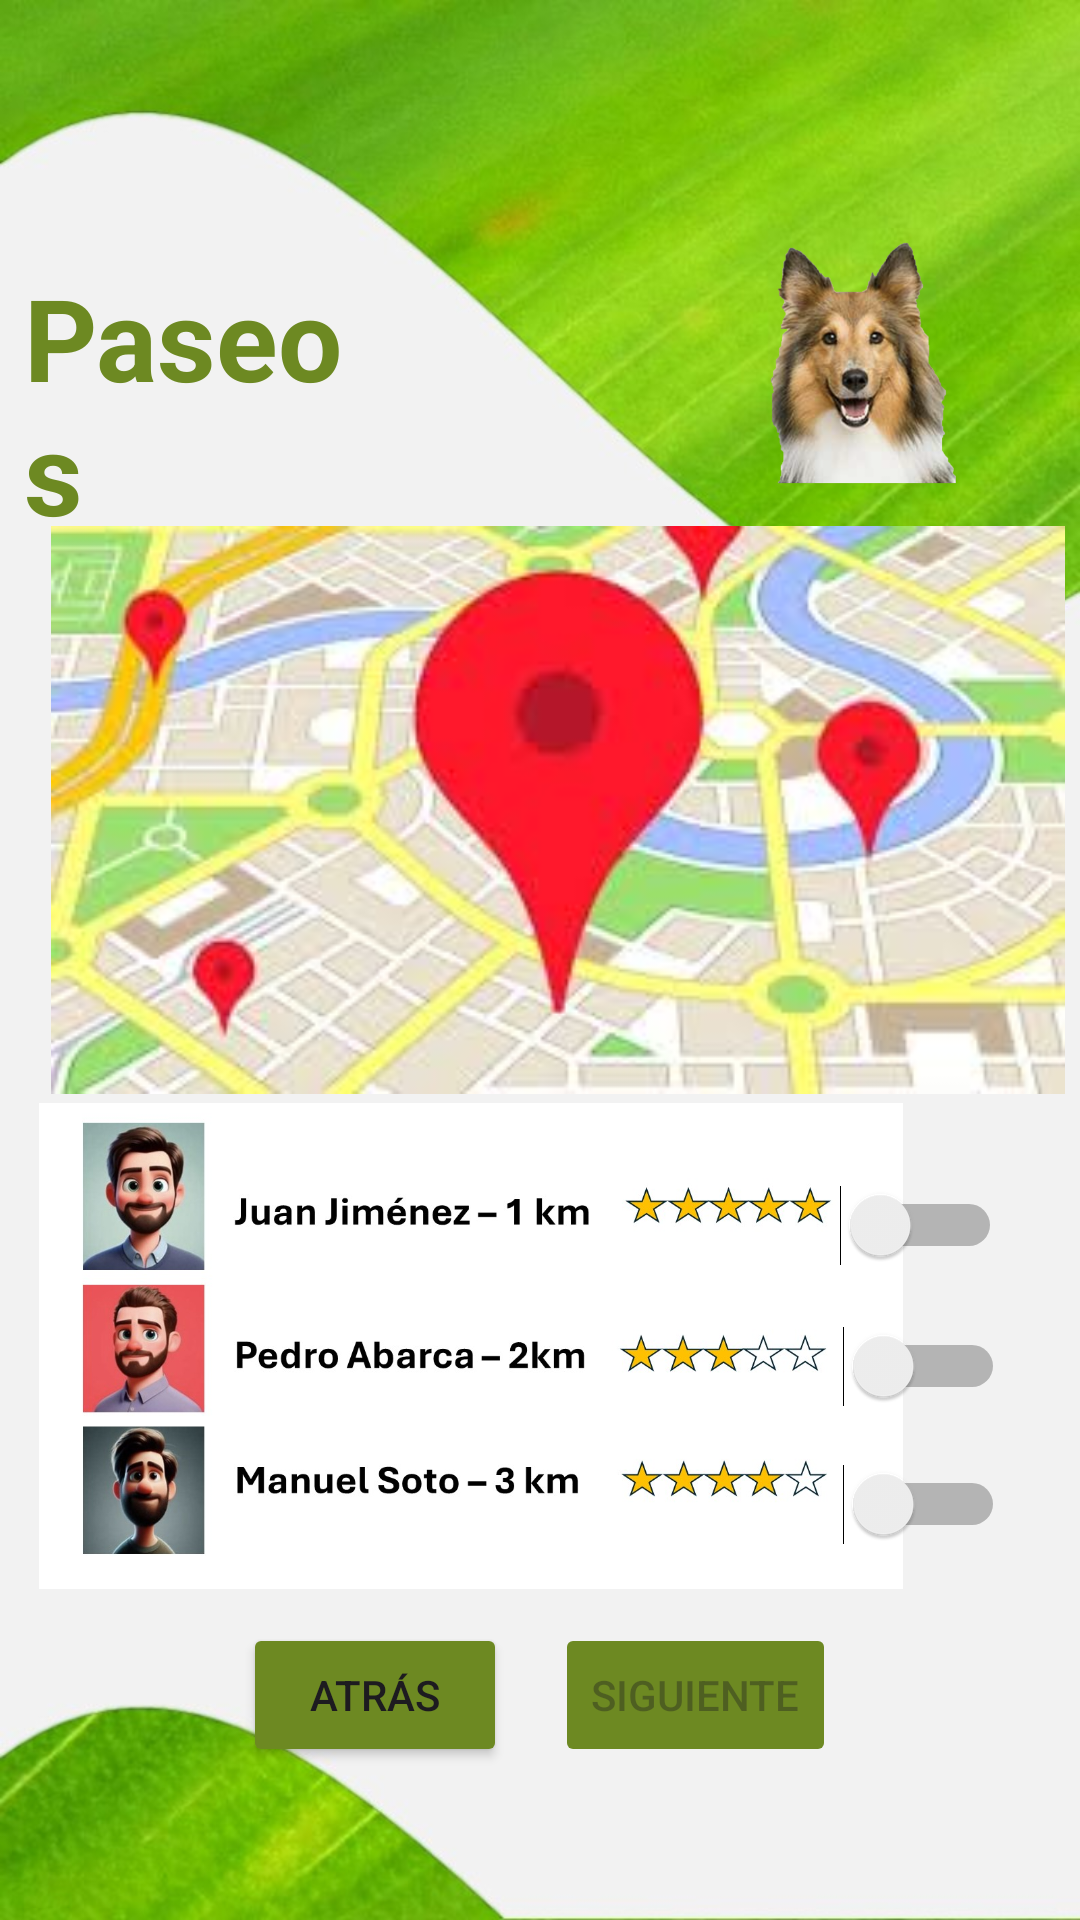

Icon click points for this 1080*1920 phone screenshot, format [x,y]:
perro: [862,354]
